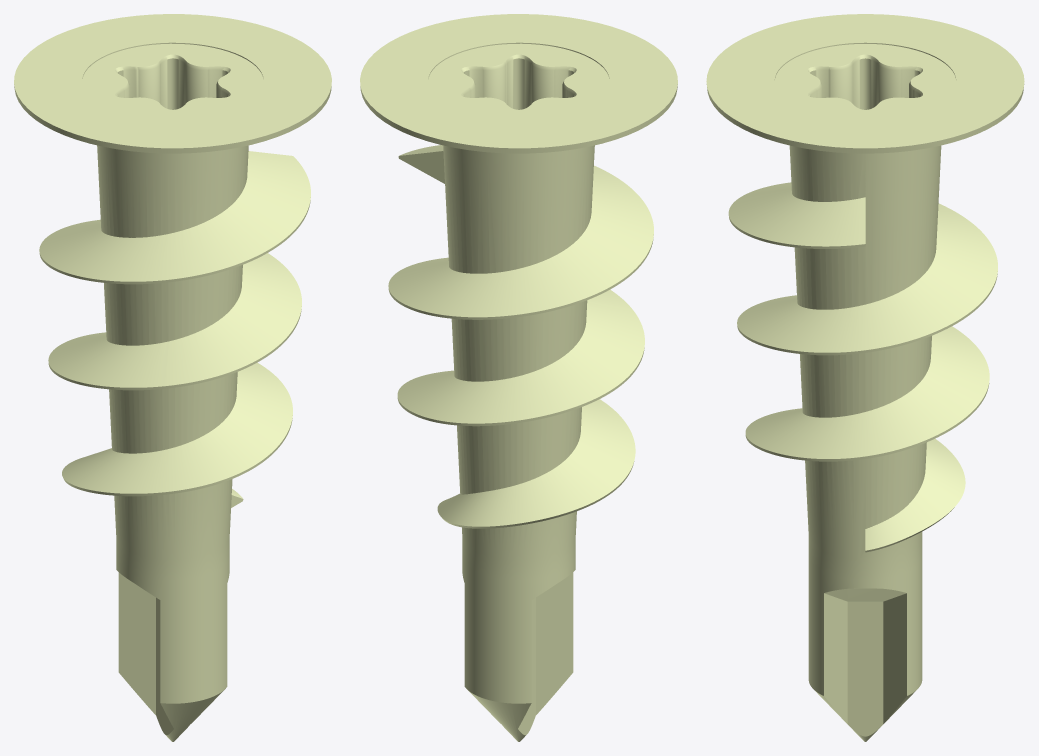
Rendered from shoper-dpn3.glb.
The picture shows the model from 3 angles, left to right: view 1: azimuth 30°, elevation 25°; view 2: azimuth 150°, elevation 25°; view 3: azimuth 270°, elevation 25°; orthographic projection.
Parts seen in each view (by area): view 1: A_MAIN_BODY; view 2: A_MAIN_BODY; view 3: A_MAIN_BODY.
Boxes of the visible parts, <box> form: A_MAIN_BODY: <box>14,14,331,741</box>; A_MAIN_BODY: <box>360,14,677,741</box>; A_MAIN_BODY: <box>706,14,1024,741</box>.
Size of what is drawn, in the model's own units: 0.014 by 0.0321 by 0.014.
